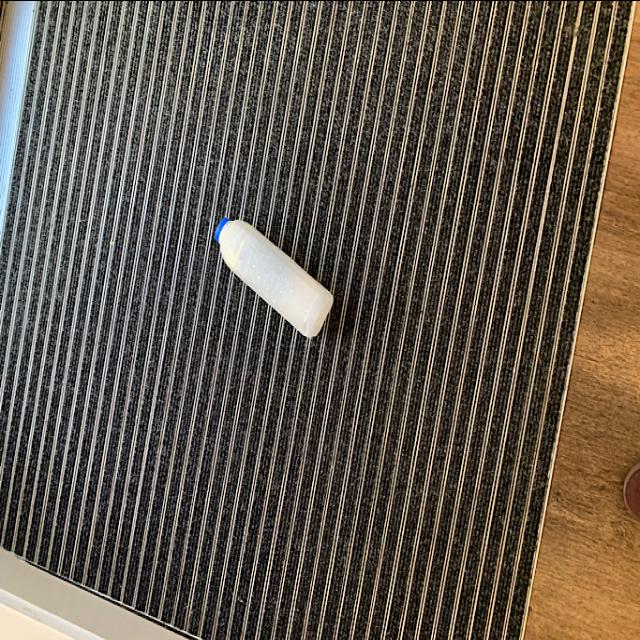HDPEM: (212, 216, 336, 340)
